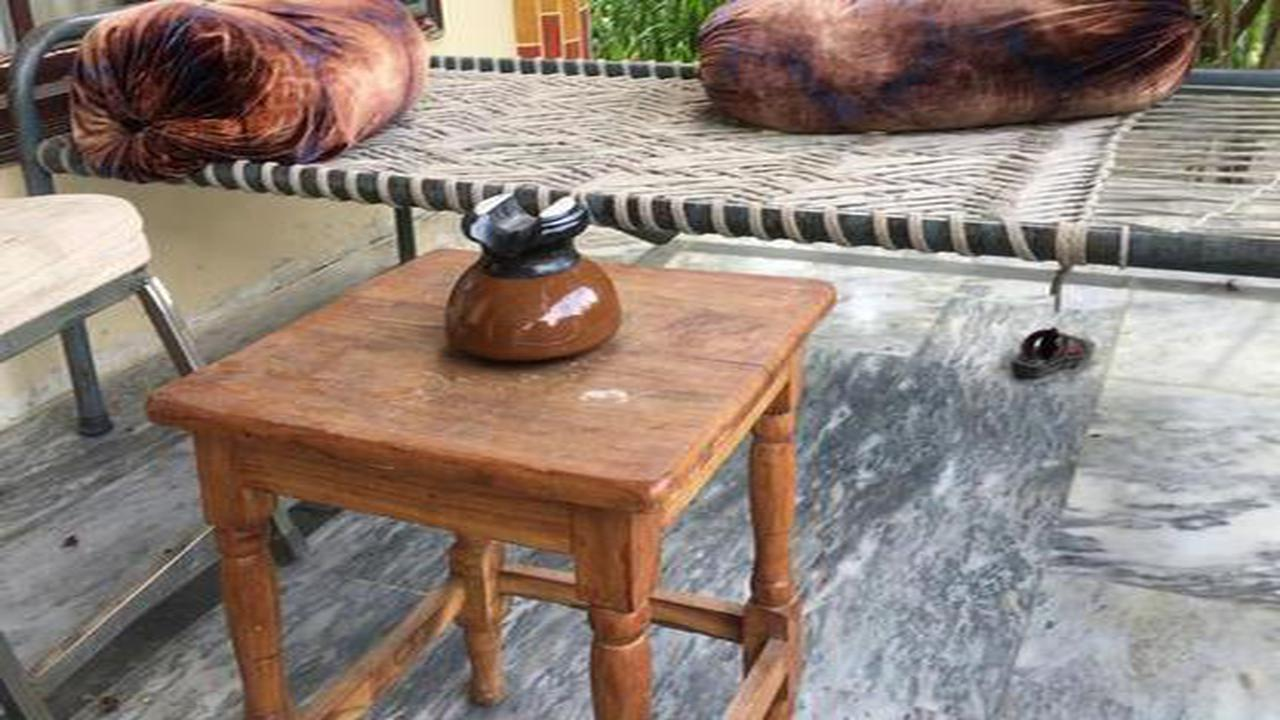insulator_pin: (428, 172, 641, 376)
